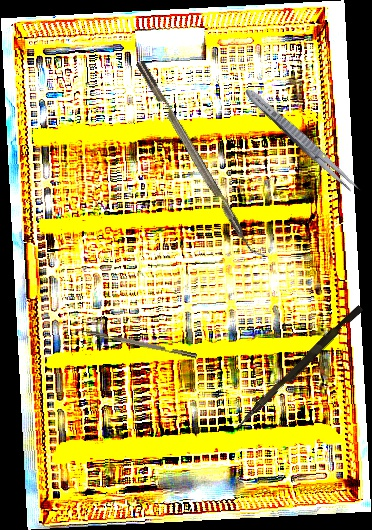Chopper: (135, 54, 269, 264), (71, 325, 198, 365)
Dressing Forceps: (240, 83, 365, 199)
Pusher: (236, 301, 364, 433)
